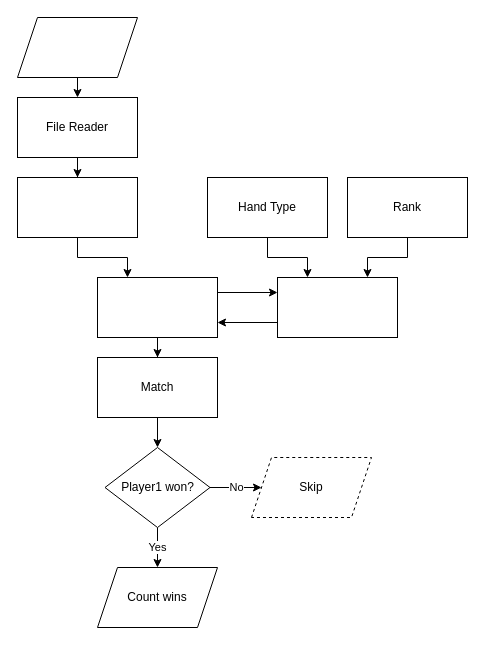
The diagram is 485 pixels wide and 645 high, and some of its shapes have lost their labels. Here are the shapes that lost their labels. From the top down, the centre of each, then its label:
At [77,47]: "Input (txt file)".
At [77,207]: "Input Parser".
At [157,307]: "PlayPoker".
At [337,307]: "Hand".
